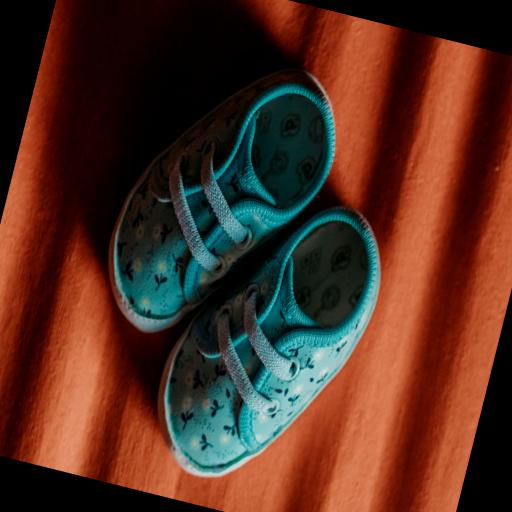shoe: (158, 208, 380, 476), (109, 70, 334, 332)
